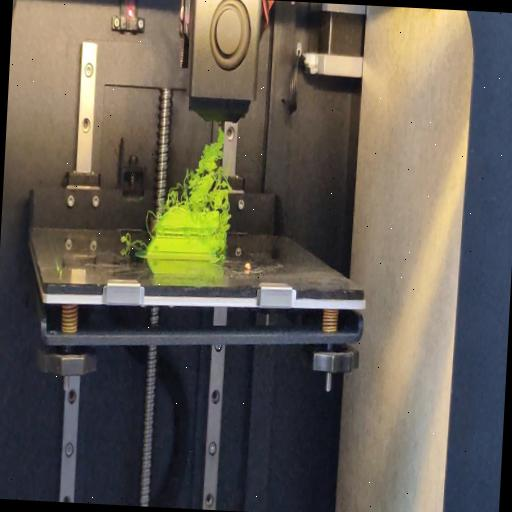spaghetti: (166, 126, 236, 216), (214, 214, 230, 262), (118, 232, 144, 250), (142, 208, 156, 241)
